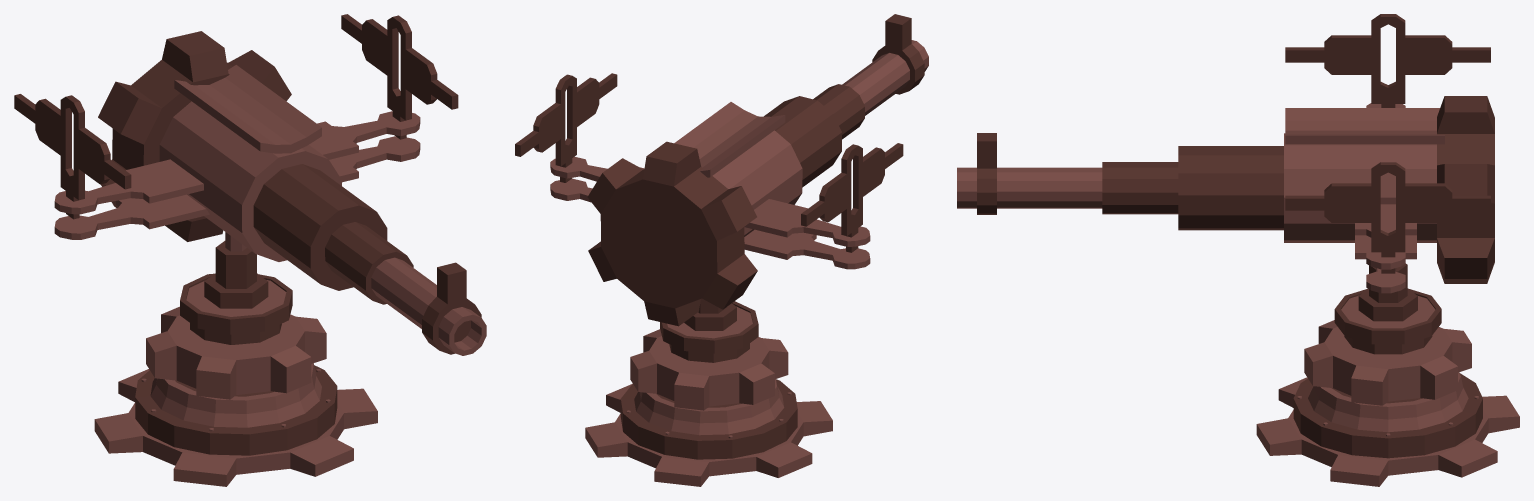
File: quaternius-turret-pack-march-gun-3.glb
3 views of the same model, side by side, from view 1: azimuth 30°, elevation 25°; view 2: azimuth 150°, elevation 25°; view 3: azimuth 270°, elevation 25° (orthographic). The views are drawn at different scales.
Parts seen in each view (by area): view 1: Gun_3_Base; view 2: Gun_3_Base; view 3: Gun_3_Base.
Part boxes in pixels (box(x1,y1,x2,y2)): Gun_3_Base: box(14, 14, 486, 486); Gun_3_Base: box(515, 14, 928, 486); Gun_3_Base: box(957, 14, 1519, 486).
Size of the model in its own units: 2.02 by 1.99 by 2.94.
